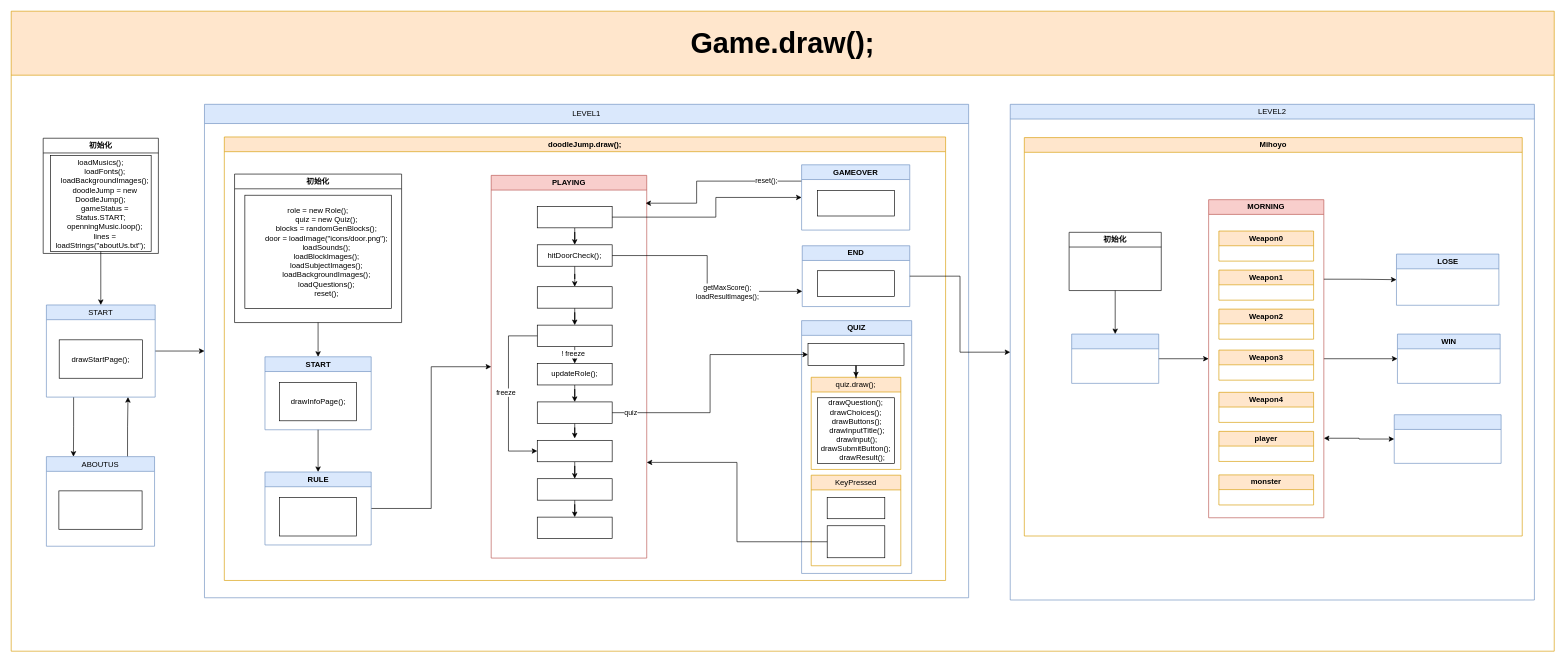
Image size: 1565x662. Some labels were removed from this diagram. Here are the shapes that lost their labels. From the top down, the centre of each, then its label:
At [574,217]: "gameOverCheck();".
At [855,203]: "drawGameOver();".
At [574,297]: "moveCanvaCheck();".
At [855,283]: "drawResultPage();".
At [574,335]: "roleStateCheck();".
At [855,354]: "setQuestion();".
At [1115,358]: "OPENING".
At [574,412]: "hitIconCheck();".
At [574,451]: "blocks.draw();".
At [1447,438]: "SHOP".
At [100,509]: "drawAboutUS();".
At [574,489]: "role.draw();".
At [856,508]: "updateAnswer();".
At [317,516]: "drawRulePage();".
At [574,527]: "drawBottomSection();".
At [856,541]: "checkSubmit(); checkAnswer();".
